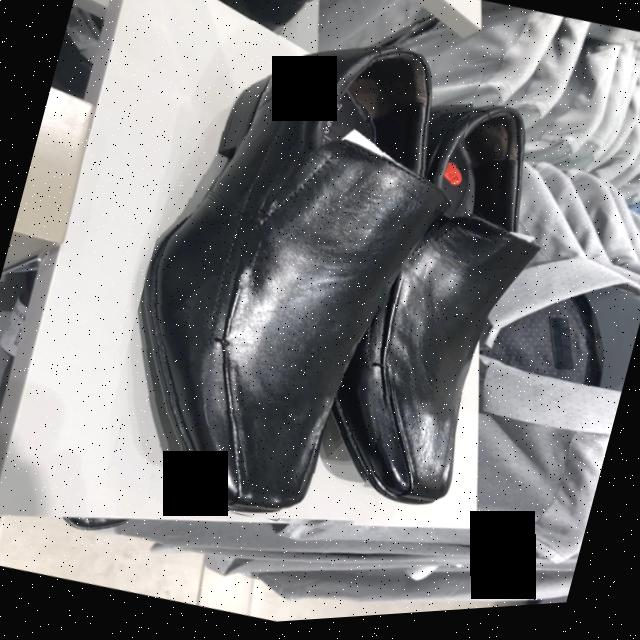shoe: (137, 54, 445, 518)
